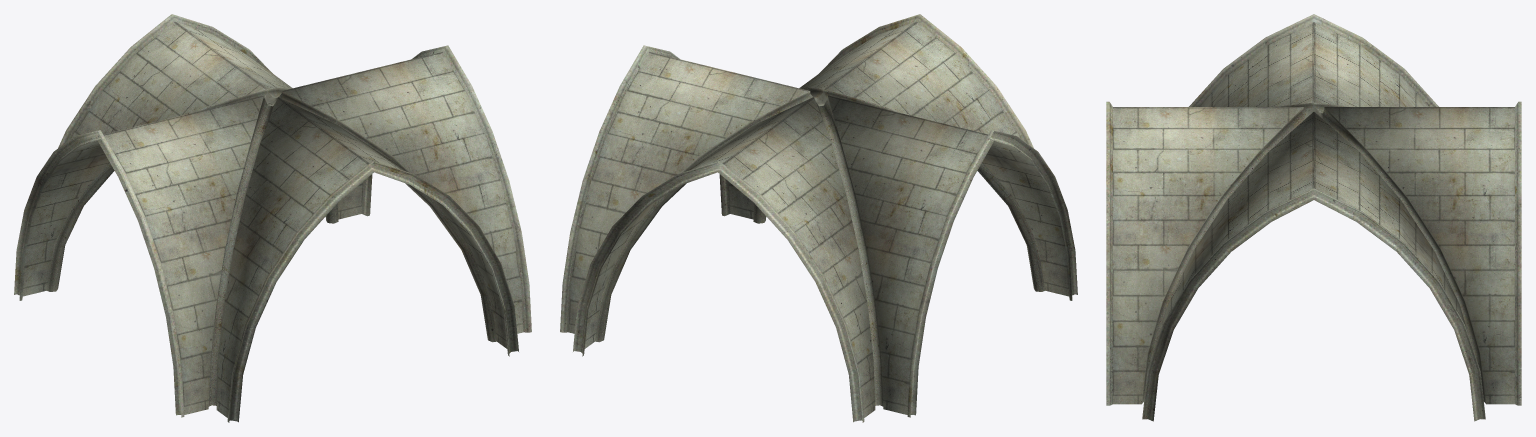
Rendered from gothic_church_ceiling.glb.
3 views of the same model, side by side, from view 1: azimuth 30°, elevation 25°; view 2: azimuth 150°, elevation 25°; view 3: azimuth 270°, elevation 25° (orthographic). The views are drawn at different scales.
Visible parts, largest first — view 1: Circle.014; view 2: Circle.014; view 3: Circle.014.
Part boxes in pixels (x1,y1,x2,y2): Circle.014: (14,14,531,422); Circle.014: (560,14,1077,422); Circle.014: (1106,14,1521,421).
Bounding box in the file's own units: 2.5 × 1.55 × 2.5.
Materials: 1 (1 with a texture image).
